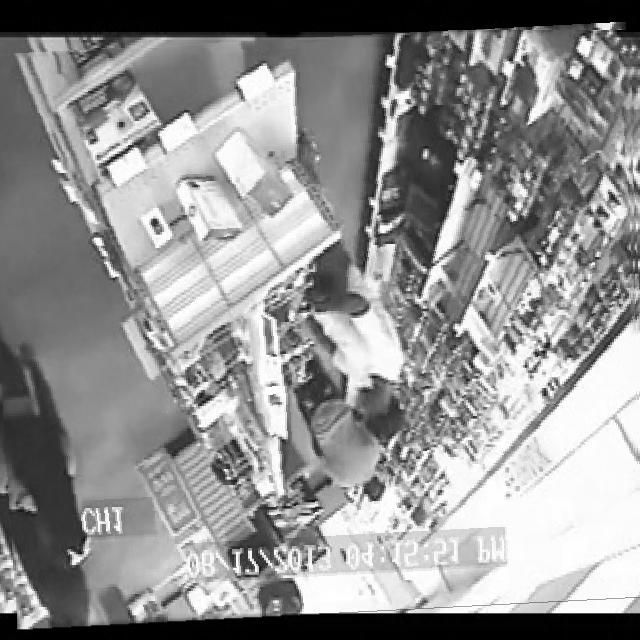Normal: (0, 30, 640, 623)
